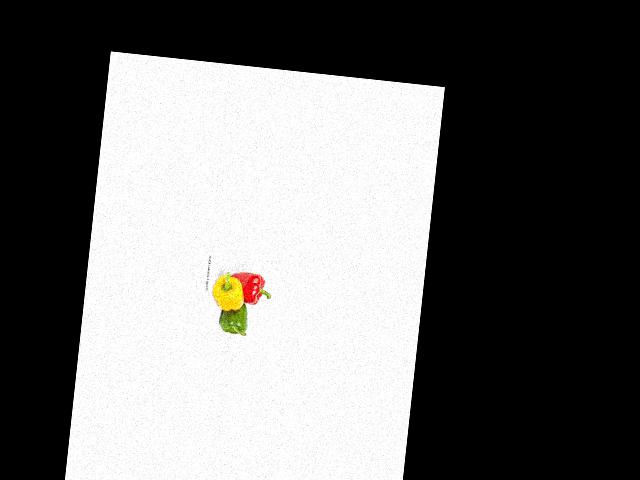bell_pepper: (230, 268, 273, 307)
